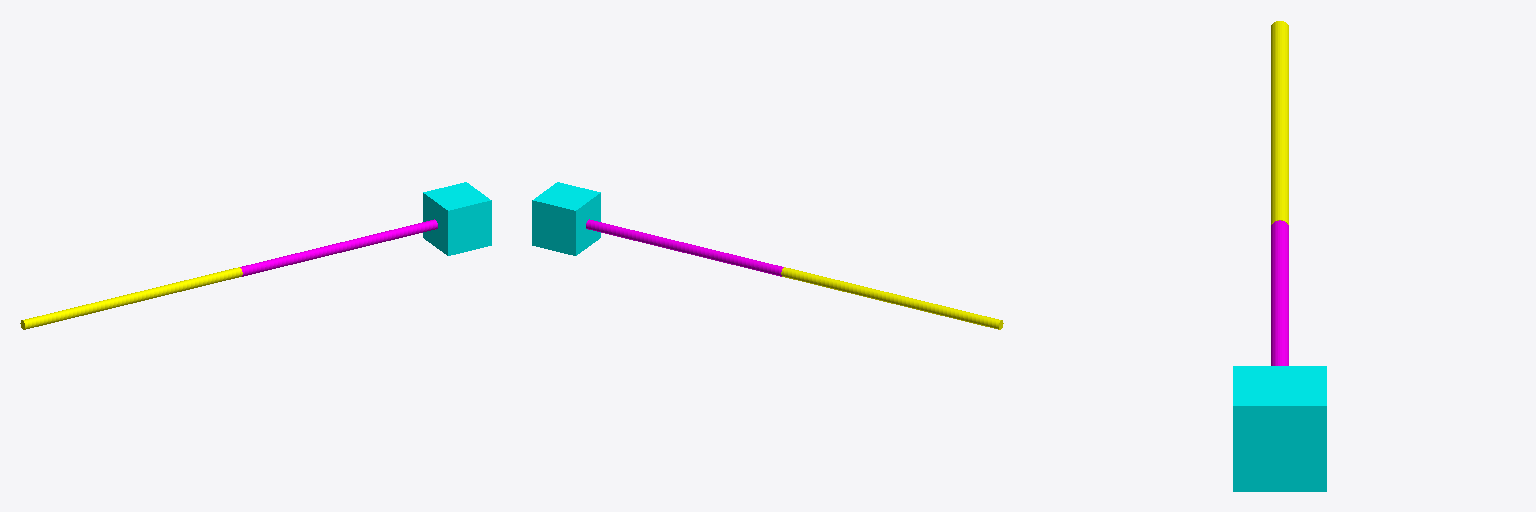
The robot description file, URDF, robot "2_R_robot":
<!-- [author], 20095107 -->

<robot name="2_R_robot">

<material name="blue">
   <color rgba="0 0 0.8 1"/>
</material>
<material name="black">
   <color rgba="0 0 0 1"/>
</material>
<material name="white">
   <color rgba="1 1 1 1"/>
</material>
<material name="olive">
   <color rgba="128 128 0 0.9"/>
</material>
<material name="fuchsia">
   <color rgba="255 0 255 0.7"/>
</material>
<material name="aqua">
   <color rgba="0 255 255 1"/>
</material>

   <!-- This is the fixed base 
    Insert the necessary tags(visual and geometry alone) 
    and the necassary values/properties.
       -->
   <link name="fixed_base">
   <visual>
      <origin rpy = "0 0 0" xyz = "0 0 0"/>
      <geometry>
         <box size ="0 0 0" />
      </geometry>
      <material name="white"/>
   </visual>
   </link>
   
     
   <!-- This is the  first link, l1 
   Insert the necessary tags(visual and geometry alone) 
   and the necassary values/properties.
      -->
   <link name="link_1">
      <!-- <axis xyz="0 0 1"/> -->
      <visual>
         <origin rpy="0 1.57 0" xyz="0.75 0 0"/>
         <geometry>
            <cylinder radius="0.03" length="1.5"/>
         </geometry>
         <material name="olive"/>         
      </visual>
   </link>       
   

   <!-- This is the  Revolute join,conecting base and link_1 
        Insert the necessary tags
        (origin,
         parent,
         child,
         limit,
         axis) 
        and the necassary values/properties.
      -->
   <joint name="Revolute_joint_1" type="revolute">
      <visual>
         <material name="blue"/>
      </visual>
      <axis xyz="0 1 0"/>
      <limit effort="1000.0" lower="-3.14" upper="3.14" velocity="0.5"/>
      <origin rpy="0 0 0" xyz="0 0 0" />
      <parent link="fixed_base"/>
      <child link="link_1"/>
   </joint>

   <link name="link_2">
      <!-- <axis xyz="0 0 1"/> -->
      <visual>
         <origin rpy="0 1.57 0" xyz="0.75 0 0"/>
         <geometry>
            <cylinder radius="0.03" length="1.5"/>
         </geometry>
         <material name="fuchsia"/>         
      </visual>
   </link> 

   <joint name="Revolute_joint_2" type="revolute">
      <visual>
         <material name="blue"/>
      </visual>
      <axis xyz="0 1 0"/>
      <limit effort="1000.0" lower="-3.14" upper="3.14" velocity="0.5"/>
      <origin rpy="0 0 0" xyz="1.5 0 0" />
      <parent link="link_1"/>
      <child link="link_2"/>
   </joint>

   <link name="palm">
   <visual>
      <origin rpy = "0 0 0" xyz = "0 0 0"/>
      <geometry>
         <box size ="0.3 0.3 0.3" />
      </geometry>
      <material name="aqua"/>
   </visual>
   </link>

   <joint name="palm_joint" type="fixed">
      <visual>
         <material name="blue"/>
      </visual>
      <axis xyz="0 1 0"/>
      
      <origin rpy="0 0 0" xyz="1.5 0 0" />
      <parent link="link_2"/>
      <child link="palm"/>
   </joint>
</robot>

--- What the picture shows (computed from the rendered views, not written in the file) ---
Views: 3 orthographic renders of the robot side by side, from view 1: azimuth 30°, elevation 25°; view 2: azimuth 150°, elevation 25°; view 3: azimuth 270°, elevation 25°.
Model 2_R_robot with 4 links and 3 joints (2 revolute, 1 fixed), rooted at fixed_base, posed every joint at zero.
Visible links, largest first — view 1: palm, link_1, link_2; view 2: palm, link_1, link_2; view 3: palm, link_1, link_2.
Boxes of the visible links, bbox=[...] form: palm: bbox=[423, 182, 491, 255]; link_1: bbox=[20, 267, 242, 329]; link_2: bbox=[240, 219, 437, 276]; palm: bbox=[532, 182, 600, 255]; link_1: bbox=[781, 267, 1003, 329]; link_2: bbox=[586, 219, 783, 276]; palm: bbox=[1233, 366, 1326, 491]; link_1: bbox=[1271, 21, 1288, 224]; link_2: bbox=[1271, 220, 1288, 365].
Bounding box of the posed robot: 3.15 × 0.3 × 0.3 m (x, y, z).
Geometry: primitives only (box / cylinder / sphere), no mesh files.
